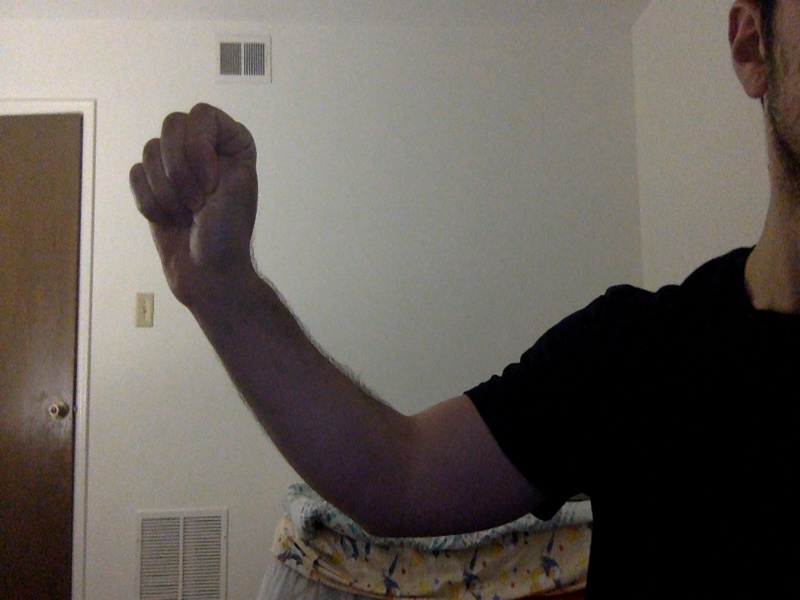0-hand: (130, 102, 261, 310)
